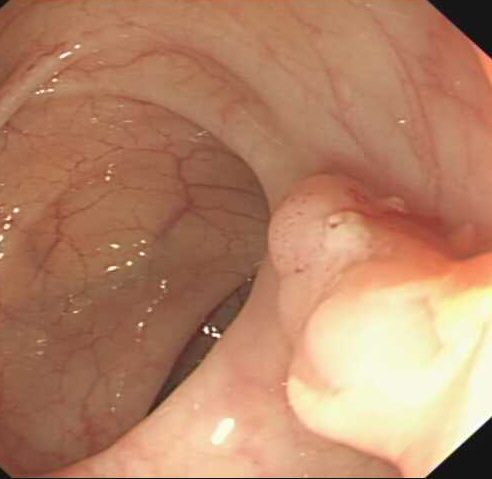adenoma: (264, 168, 461, 459)
